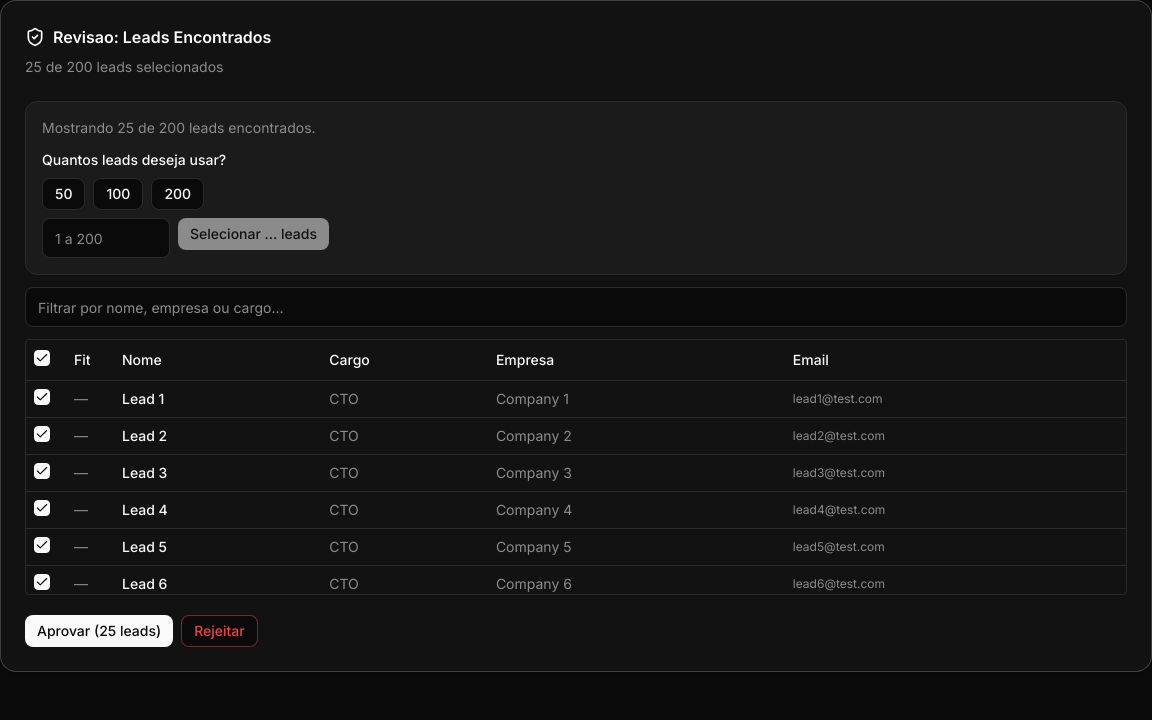
it: AgentLeadReview (AC: #3, #4) › quantity selector (Story 17.12) › clicking quantity option updates selected state
This screenshot has width=1152, height=720.
Click the button "100". click: (118, 194)
box: [94,178,143,210]
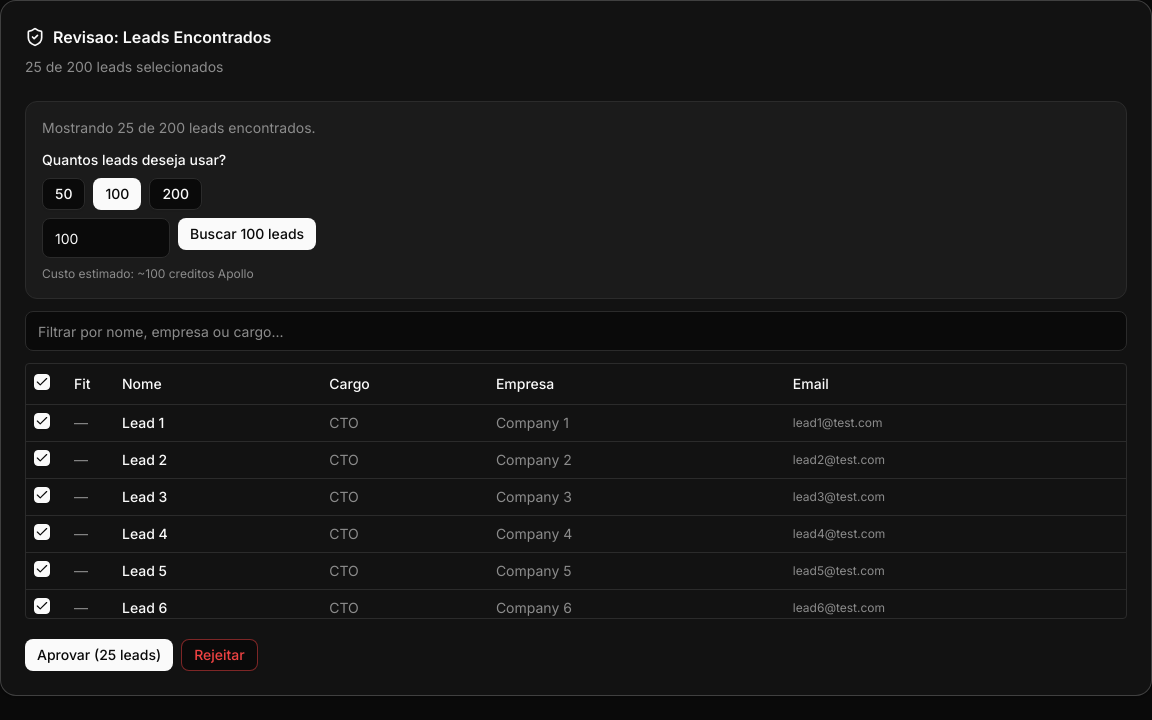
Expected: the text "Custo estimado: ~100 creditos Apollo" is shown, [42,266,254,281]
Expected: the button "Buscar 100 leads" is shown, [178,218,316,250]
